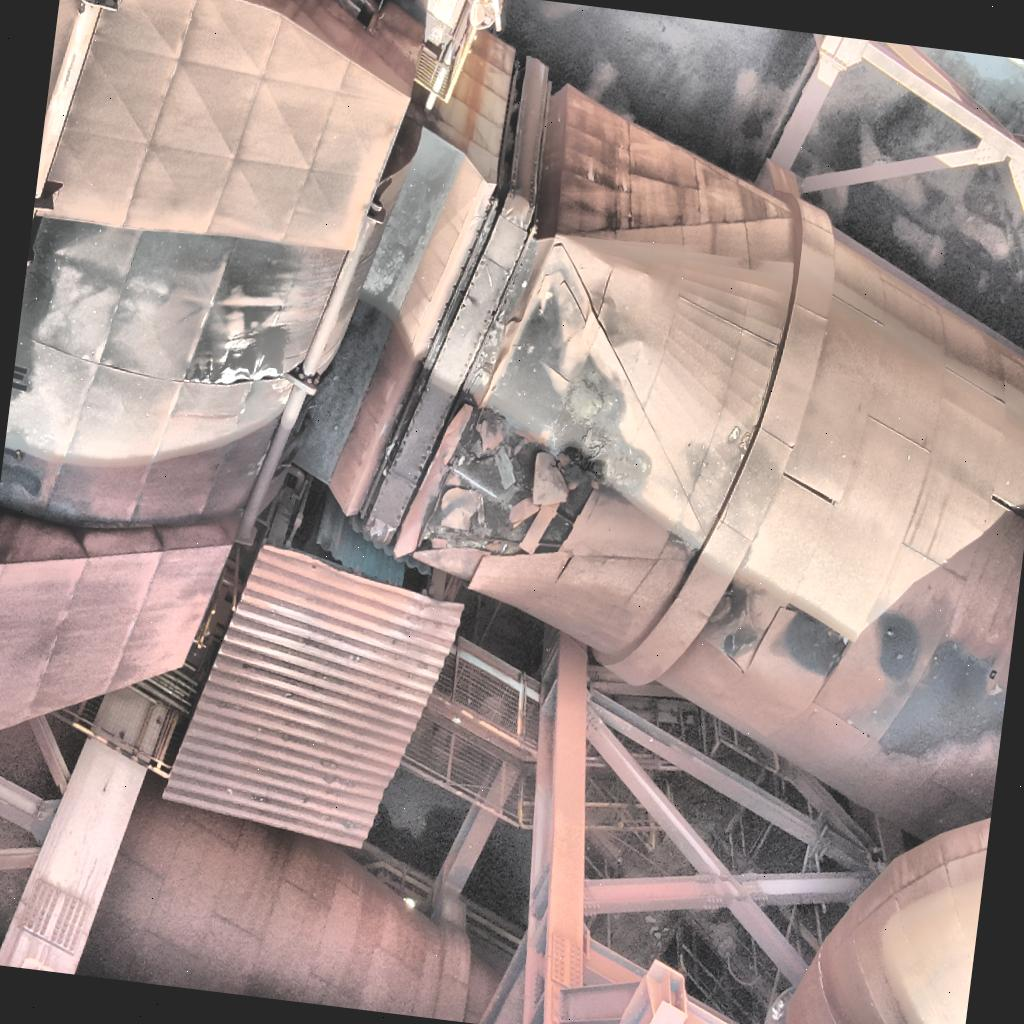Failures: (379, 246, 647, 611), (168, 281, 306, 430)
